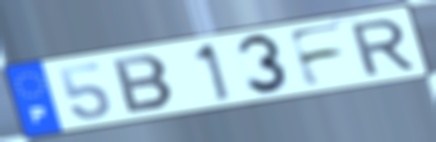1: (192, 41, 234, 103)
3: (234, 32, 293, 98)
5: (55, 60, 114, 121)
B: (109, 53, 178, 116)
F: (285, 21, 348, 90)
R: (347, 16, 418, 78)
